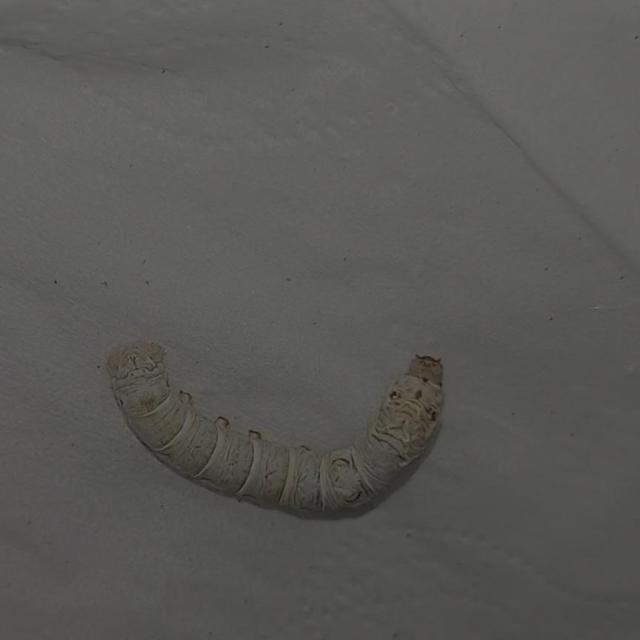Healthy: (79, 320, 477, 534)
